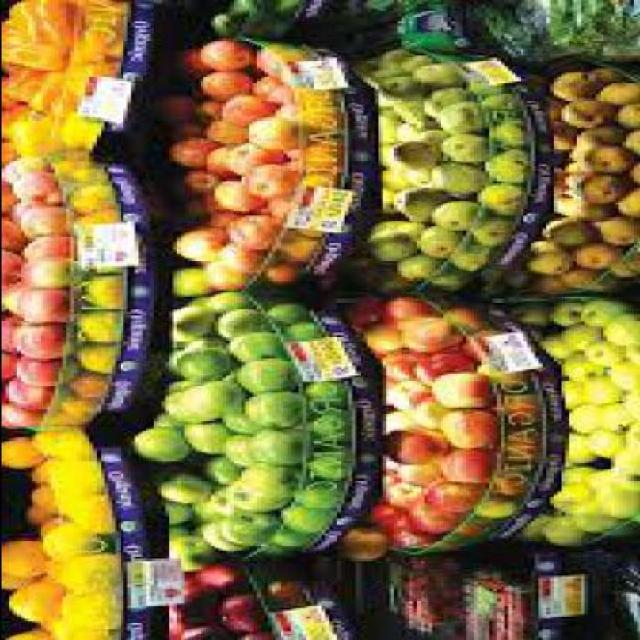BIODEGRADABLE: (2, 0, 72, 68), (389, 557, 453, 628), (544, 0, 621, 58), (1, 575, 64, 620), (480, 582, 526, 638), (2, 106, 49, 159), (378, 424, 445, 461), (4, 286, 76, 320), (8, 320, 72, 358), (244, 425, 308, 463), (240, 390, 305, 427), (175, 377, 240, 414), (396, 313, 461, 350), (244, 113, 308, 150), (434, 408, 492, 448), (221, 212, 282, 250), (1, 62, 53, 105), (8, 202, 75, 235), (122, 427, 187, 461), (423, 372, 488, 406), (148, 464, 206, 502), (0, 538, 46, 584), (168, 224, 225, 261), (388, 186, 450, 220), (411, 348, 472, 382), (12, 254, 76, 286), (422, 196, 484, 229), (404, 499, 465, 532), (0, 171, 62, 203), (224, 0, 286, 32), (320, 525, 382, 557), (430, 448, 492, 480), (34, 520, 92, 554), (236, 463, 293, 497), (423, 158, 480, 192), (8, 354, 72, 384), (54, 493, 103, 532), (225, 142, 286, 173), (541, 70, 602, 101), (530, 511, 587, 544), (214, 591, 263, 629), (164, 302, 213, 340), (172, 345, 228, 378), (572, 501, 628, 534), (152, 380, 198, 420), (590, 478, 636, 518), (217, 94, 274, 126), (556, 350, 598, 393), (26, 429, 88, 458), (50, 552, 96, 591), (576, 141, 632, 173), (241, 162, 293, 196), (186, 563, 248, 591), (195, 36, 247, 69), (233, 356, 285, 389), (568, 173, 629, 201), (476, 147, 522, 184), (42, 458, 92, 492), (206, 177, 259, 209), (214, 510, 266, 542), (165, 135, 217, 167), (198, 518, 248, 551), (388, 136, 438, 169), (419, 82, 468, 115), (191, 68, 243, 99), (2, 376, 49, 410), (213, 243, 270, 271), (576, 297, 632, 325), (297, 444, 343, 478), (178, 420, 224, 454), (412, 222, 458, 256), (381, 376, 427, 410), (544, 478, 590, 512), (58, 590, 99, 628), (434, 130, 484, 161), (373, 111, 401, 166), (587, 213, 636, 244), (564, 403, 613, 434), (380, 520, 438, 546), (282, 134, 332, 164), (266, 102, 328, 126), (15, 232, 68, 260), (419, 480, 472, 508), (213, 430, 252, 468), (73, 307, 119, 339), (217, 485, 278, 509), (210, 307, 262, 335), (538, 215, 590, 243), (526, 239, 568, 273), (430, 102, 476, 133), (434, 302, 480, 333), (556, 266, 613, 291), (598, 309, 636, 346), (198, 260, 248, 288), (374, 72, 423, 100), (484, 392, 533, 420), (480, 467, 529, 495), (362, 231, 412, 258), (446, 238, 488, 270), (358, 320, 400, 352), (42, 616, 103, 638), (575, 337, 617, 368), (80, 273, 118, 307), (172, 534, 210, 568), (301, 410, 339, 444), (568, 241, 621, 265), (61, 368, 102, 399), (168, 266, 209, 297), (598, 356, 636, 389), (388, 252, 438, 277), (388, 462, 438, 487), (165, 612, 217, 636), (557, 99, 609, 123), (270, 231, 316, 258), (198, 118, 244, 145), (472, 182, 518, 209), (408, 62, 454, 89), (480, 118, 526, 145), (377, 168, 408, 208), (294, 478, 335, 508), (560, 195, 609, 220), (190, 488, 228, 520), (594, 371, 632, 403), (274, 504, 324, 528), (377, 297, 426, 321), (2, 434, 36, 468), (0, 155, 46, 180), (476, 362, 522, 387), (472, 490, 518, 515), (252, 256, 293, 284), (378, 475, 419, 503), (172, 42, 202, 80), (564, 428, 594, 466), (202, 9, 244, 36), (488, 429, 529, 456), (256, 302, 302, 326), (358, 57, 404, 81), (464, 219, 510, 243), (342, 302, 388, 326), (373, 49, 430, 68), (354, 497, 392, 525), (541, 297, 579, 325), (378, 347, 412, 378), (502, 299, 541, 326), (392, 103, 434, 128), (228, 332, 270, 356), (362, 267, 404, 291), (540, 119, 572, 150), (65, 181, 106, 205), (54, 154, 95, 178), (552, 462, 591, 487), (556, 322, 595, 347), (53, 395, 99, 416), (422, 265, 468, 286), (572, 124, 618, 145), (590, 81, 636, 102), (408, 397, 442, 425), (175, 168, 214, 192), (148, 92, 187, 116), (202, 290, 244, 312), (518, 273, 564, 292), (609, 186, 637, 217), (549, 166, 568, 211), (2, 403, 36, 428), (214, 406, 248, 431), (602, 253, 636, 278), (72, 344, 106, 368), (202, 457, 236, 481), (534, 332, 568, 356), (22, 482, 50, 510), (244, 539, 293, 555), (243, 73, 274, 98), (160, 500, 191, 525), (381, 406, 412, 431), (172, 623, 220, 639), (68, 204, 110, 222), (514, 512, 541, 540), (555, 378, 583, 405), (606, 103, 636, 128), (606, 443, 636, 468), (243, 48, 274, 72), (586, 429, 617, 453), (262, 523, 301, 542), (164, 590, 205, 608), (178, 336, 224, 352), (613, 390, 636, 422), (472, 90, 511, 108), (271, 320, 312, 337), (388, 220, 427, 237), (2, 217, 23, 248), (2, 626, 49, 639), (2, 310, 15, 356), (613, 418, 636, 444), (164, 522, 182, 555), (19, 504, 53, 521), (206, 209, 240, 226), (193, 192, 224, 210), (586, 468, 632, 480), (2, 245, 15, 286), (148, 411, 180, 427), (399, 167, 427, 185), (365, 215, 393, 232), (23, 456, 42, 481), (167, 119, 195, 135), (618, 128, 636, 152), (228, 630, 274, 638), (586, 66, 614, 79), (541, 93, 553, 118), (618, 346, 636, 359), (1, 349, 12, 369), (187, 296, 202, 306)
